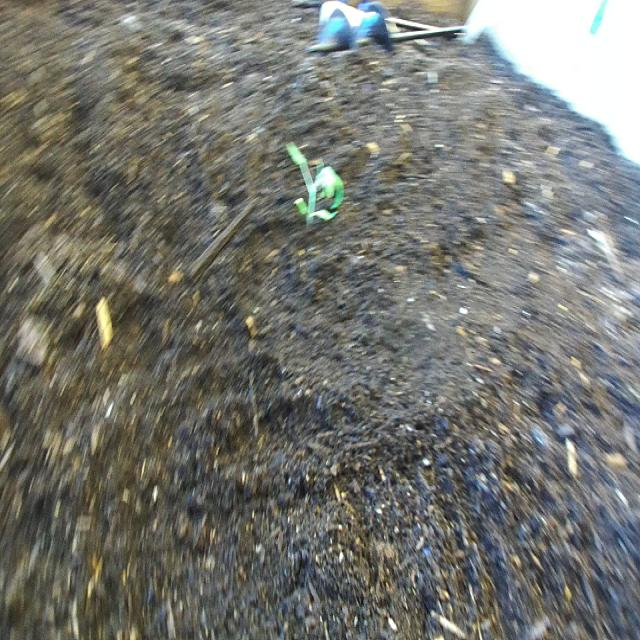Healthy: (281, 110, 352, 249)
